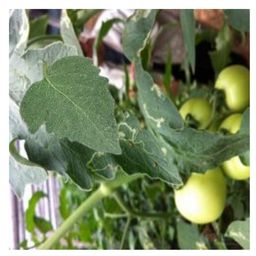liriomyza: (86, 150, 113, 173), (142, 102, 165, 128), (116, 119, 137, 143), (149, 82, 163, 98)
